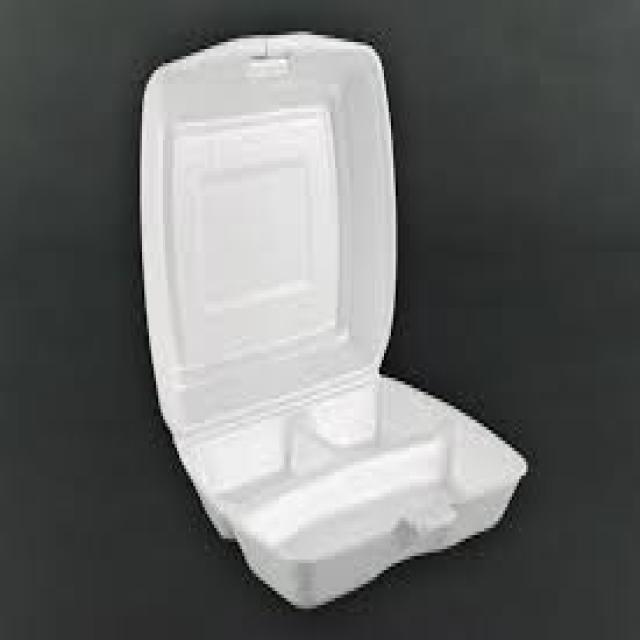styrofoam: (140, 34, 525, 606)
